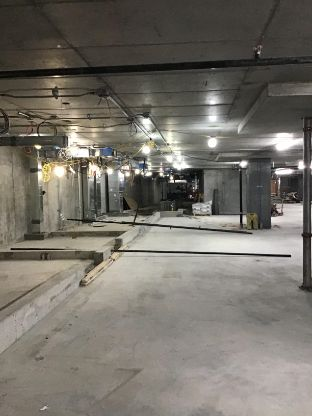Duct: (74, 144, 107, 226), (24, 142, 46, 236), (105, 158, 127, 218), (1, 132, 71, 150)
